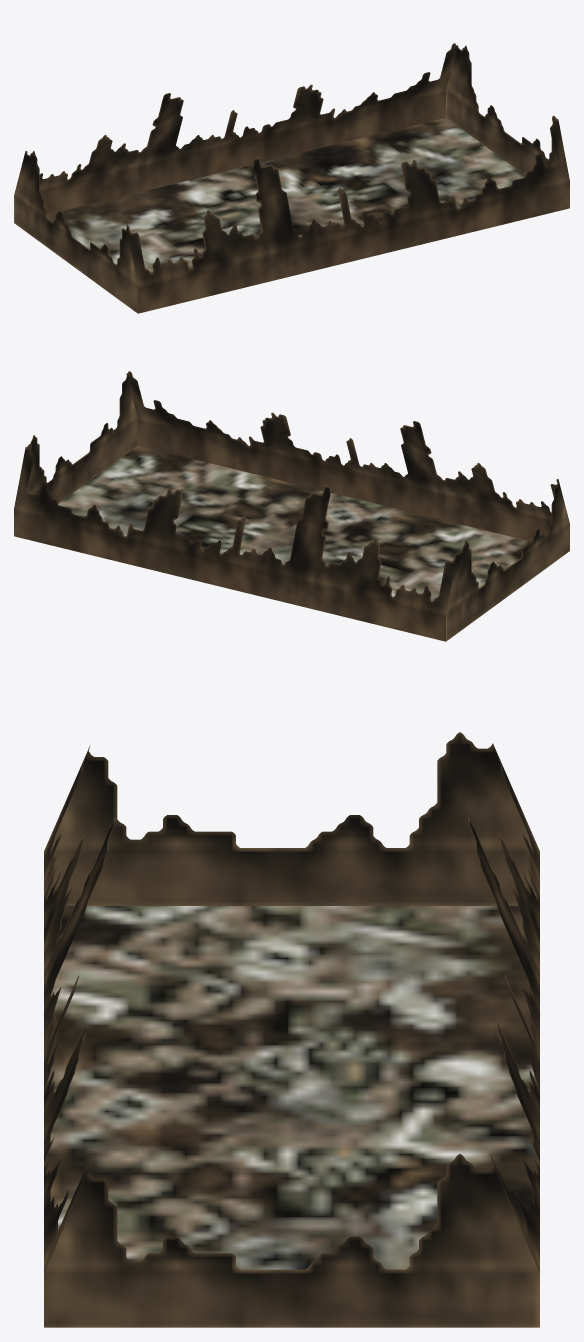
Rendered from hpg_walkway_dam.glb.
The picture shows the model from 3 angles, top to bottom: view 1: azimuth 30°, elevation 25°; view 2: azimuth 150°, elevation 25°; view 3: azimuth 270°, elevation 25°; orthographic projection. The views are drawn at different scales.
Parts seen in each view (by area): view 1: WalkwayDam; view 2: WalkwayDam; view 3: WalkwayDam.
Boxes of the visible parts, x1,y1,x2,y2 form: WalkwayDam: (14,43,569,313); WalkwayDam: (14,371,569,641); WalkwayDam: (44,732,539,1327).
Size of the model in its own units: 25.59 by 6.67 by 12.71.
1 material, 1 textured.
